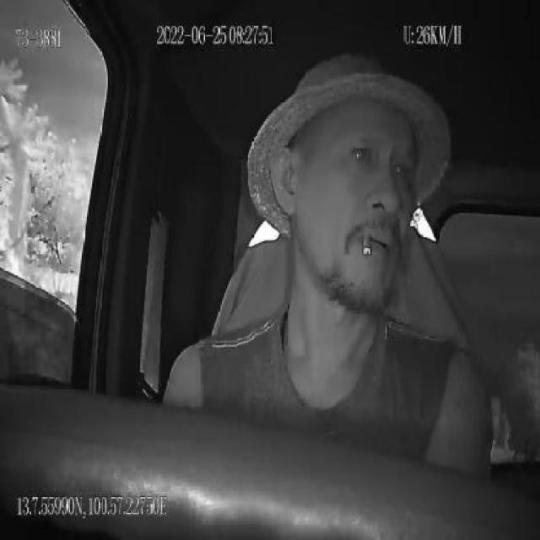smoking: (360, 230, 372, 259)
